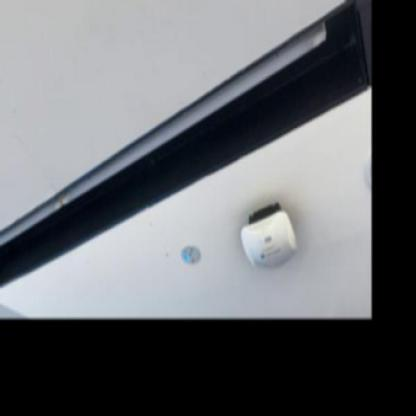light_off: (0, 10, 333, 270)
